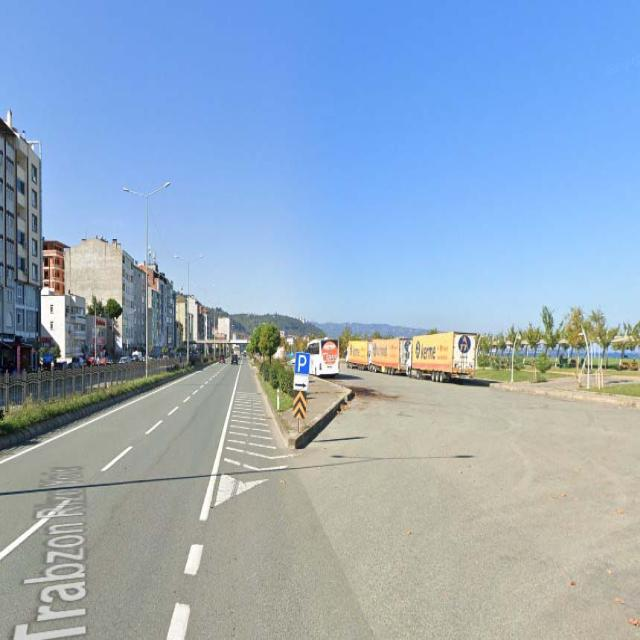park: (296, 352, 308, 374)
